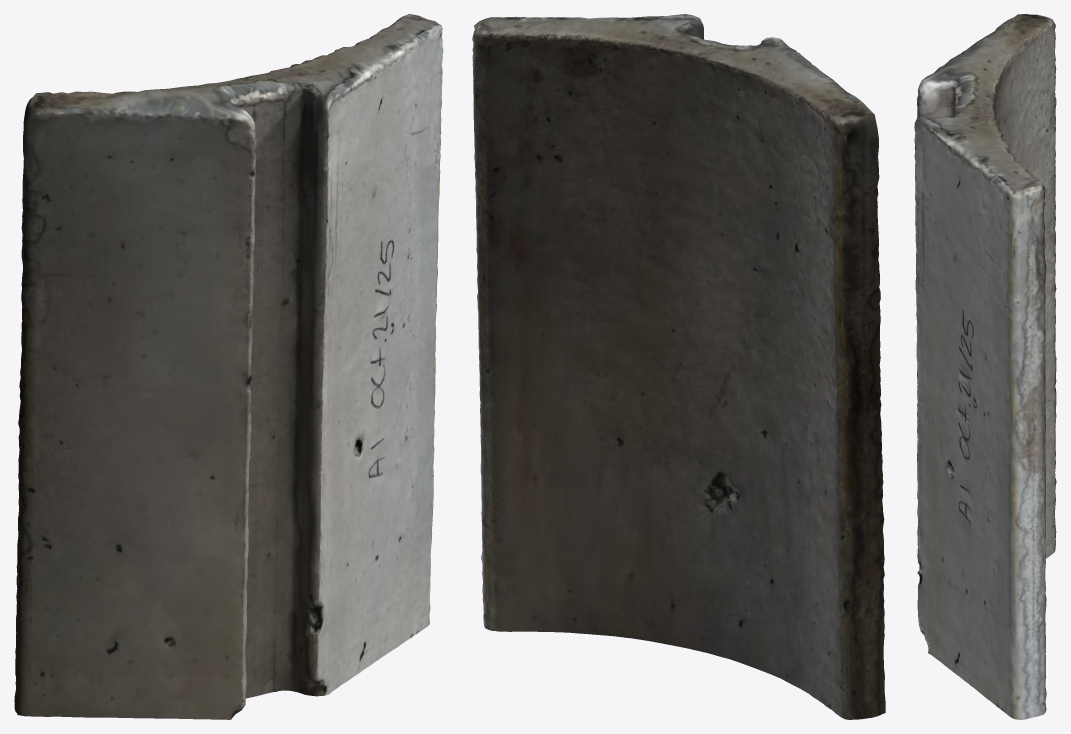
The picture shows the model from 3 angles, left to right: view 1: azimuth 30°, elevation 25°; view 2: azimuth 150°, elevation 25°; view 3: azimuth 270°, elevation 25°; orthographic projection. The views are drawn at different scales.
Parts seen in each view (by area): view 1: Node; view 2: Node; view 3: Node.
Part boxes in pixels (x1,y1,x2,y2): Node: (14,14,443,719); Node: (472,14,885,719); Node: (914,14,1056,719).
Size of the model in its own units: 0.3446 by 0.4822 by 0.1139.
1 material, 1 textured.
